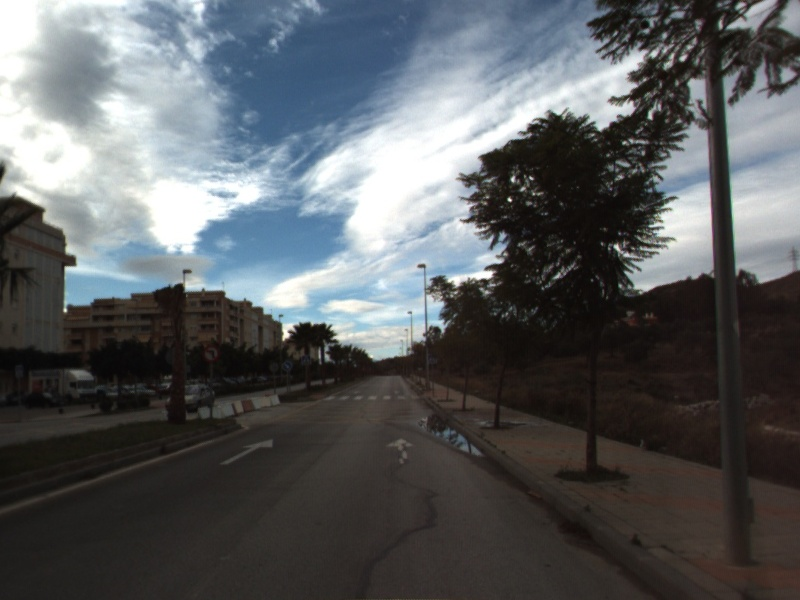STRAIGHT: (217, 437, 275, 467), (384, 436, 417, 466)
